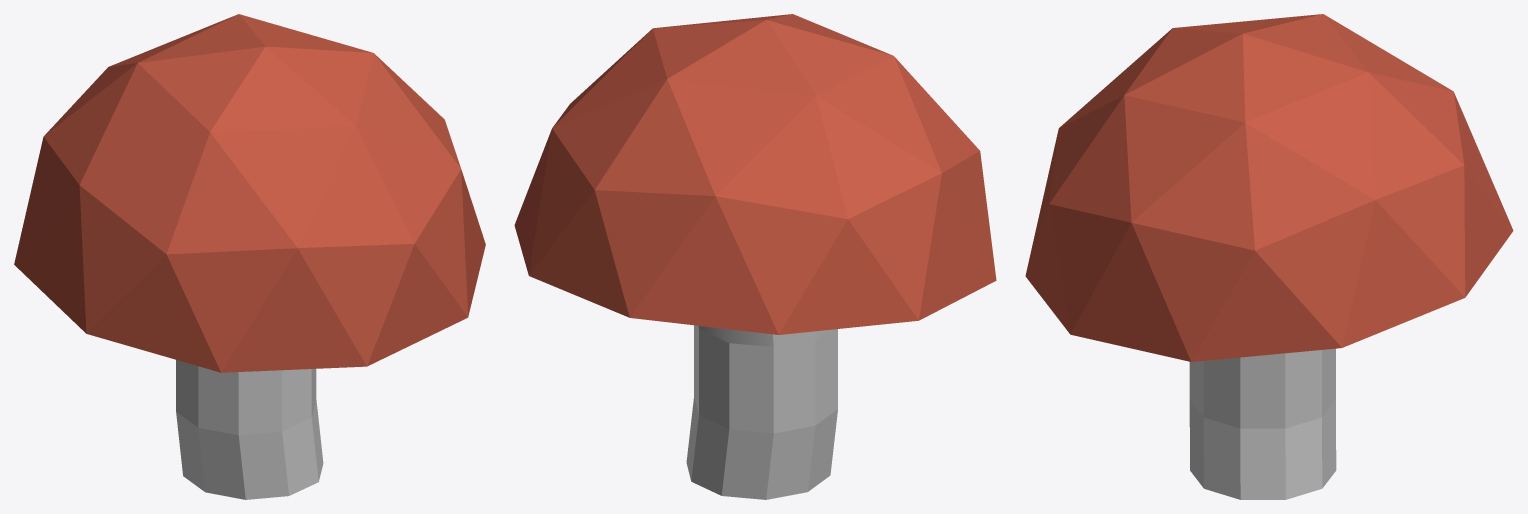
Rendered from jamurmerah.fbx.
The picture shows the model from 3 angles, left to right: view 1: azimuth 30°, elevation 25°; view 2: azimuth 150°, elevation 25°; view 3: azimuth 270°, elevation 25°; orthographic projection. The views are drawn at different scales.
Visible parts, largest first — view 1: Mushroom_1a; view 2: Mushroom_1a; view 3: Mushroom_1a.
Boxes of the visible parts, left/top/right/bottom form: Mushroom_1a: left=14, top=14, right=485, bottom=499; Mushroom_1a: left=514, top=14, right=996, bottom=499; Mushroom_1a: left=1025, top=14, right=1513, bottom=499.
Bounding box in the file's own units: 37.53 × 38.69 × 39.06.
